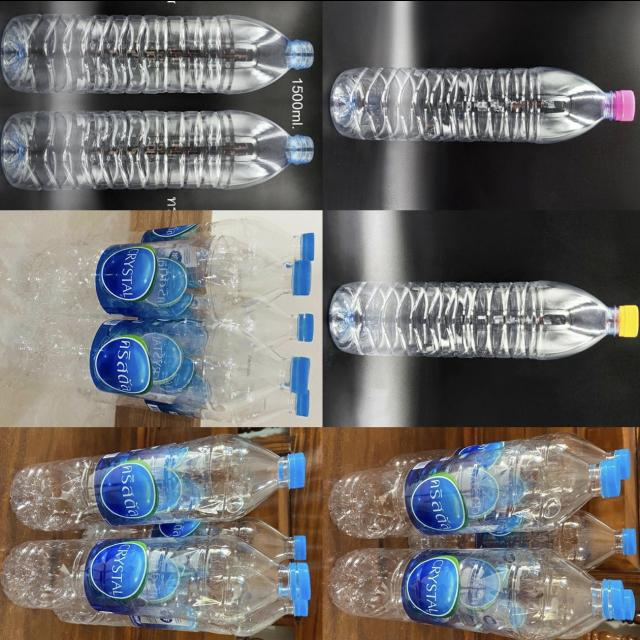plastik: (11, 433, 306, 530), (329, 548, 634, 640), (330, 441, 621, 536), (22, 315, 310, 410), (1, 535, 311, 623), (1, 13, 313, 93), (1, 109, 313, 189), (329, 280, 639, 358), (24, 235, 311, 319), (330, 66, 635, 142), (409, 510, 636, 571), (86, 216, 315, 262), (87, 516, 306, 562), (231, 302, 313, 347)
